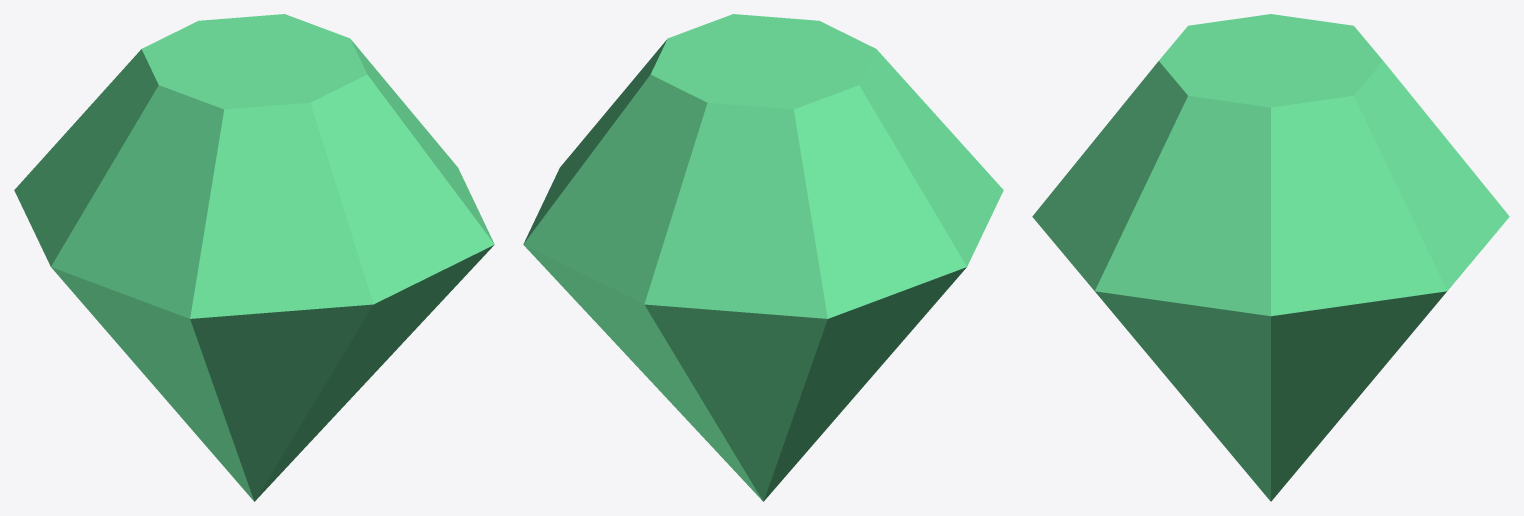
The model's file is X_Diamond5.fbx.
3 views of the same model, side by side, from view 1: azimuth 30°, elevation 25°; view 2: azimuth 150°, elevation 25°; view 3: azimuth 270°, elevation 25° (orthographic).
Parts seen in each view (by area): view 1: Cube.007; view 2: Cube.007; view 3: Cube.007.
Part boxes in pixels (x1=…): Cube.007: x1=14, y1=14, x2=494, y2=501; Cube.007: x1=523, y1=14, x2=1003, y2=501; Cube.007: x1=1032, y1=14, x2=1509, y2=501.
Bounding box in the file's own units: 241 × 249 × 244.
